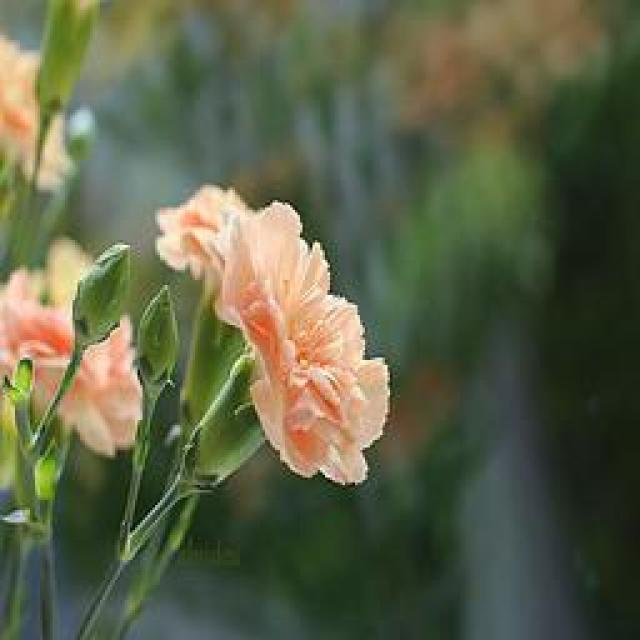carnation: (186, 192, 420, 497)
